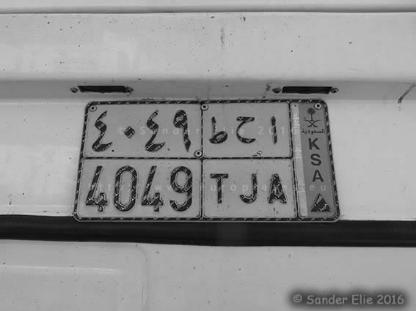license plate: (72, 97, 354, 226)
